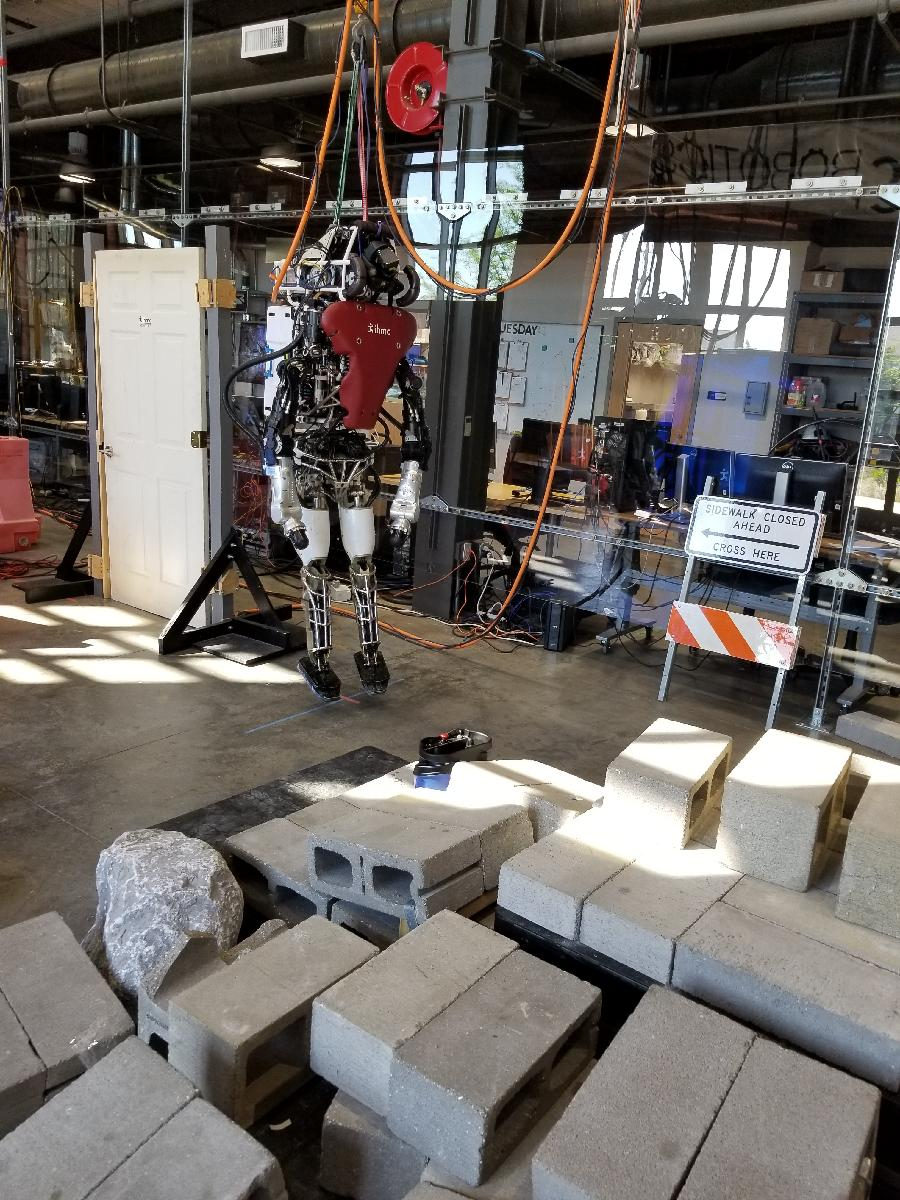door: (90, 242, 215, 633)
doorHandle: (100, 442, 117, 462)
